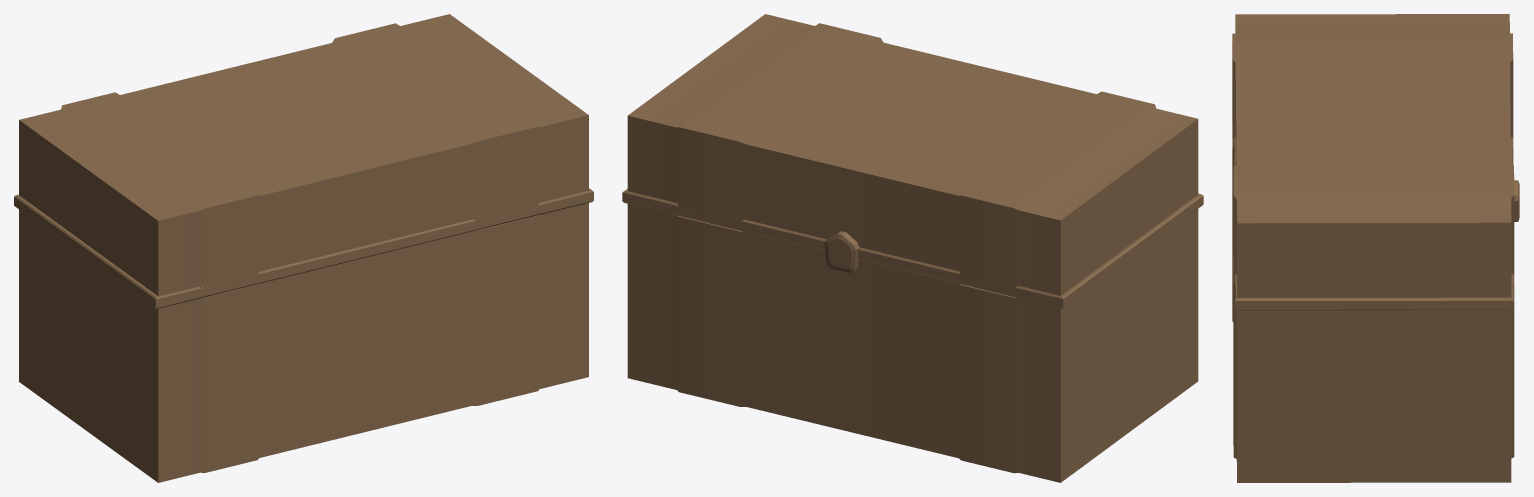
Rendered from PAST-LockedChest.fbx.
3 views of the same model, side by side, from view 1: azimuth 30°, elevation 25°; view 2: azimuth 150°, elevation 25°; view 3: azimuth 270°, elevation 25° (orthographic).
Parts seen in each view (by area): view 1: Locked_chest; view 2: Locked_chest; view 3: Locked_chest.
Boxes of the visible parts, x1,y1,x2,y2 form: Locked_chest: (14,14,593,482); Locked_chest: (622,14,1203,482); Locked_chest: (1232,14,1519,482).
Bounding box in the file's own units: 210 × 121 × 120.
